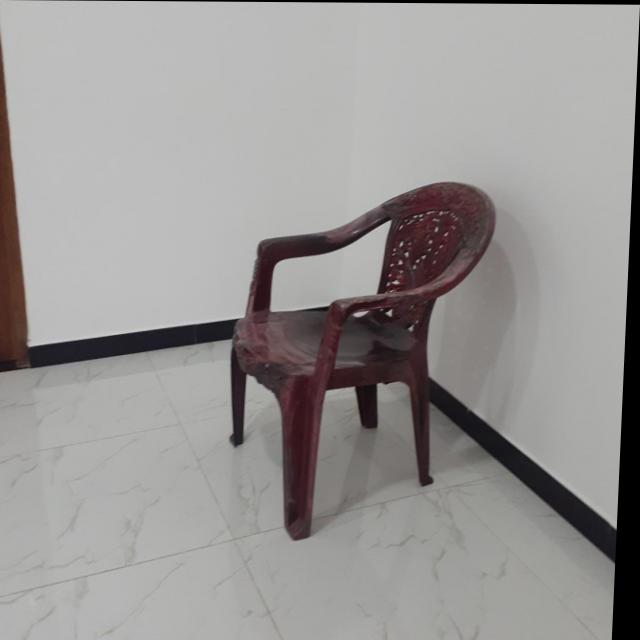Chair: (225, 176, 500, 542)
